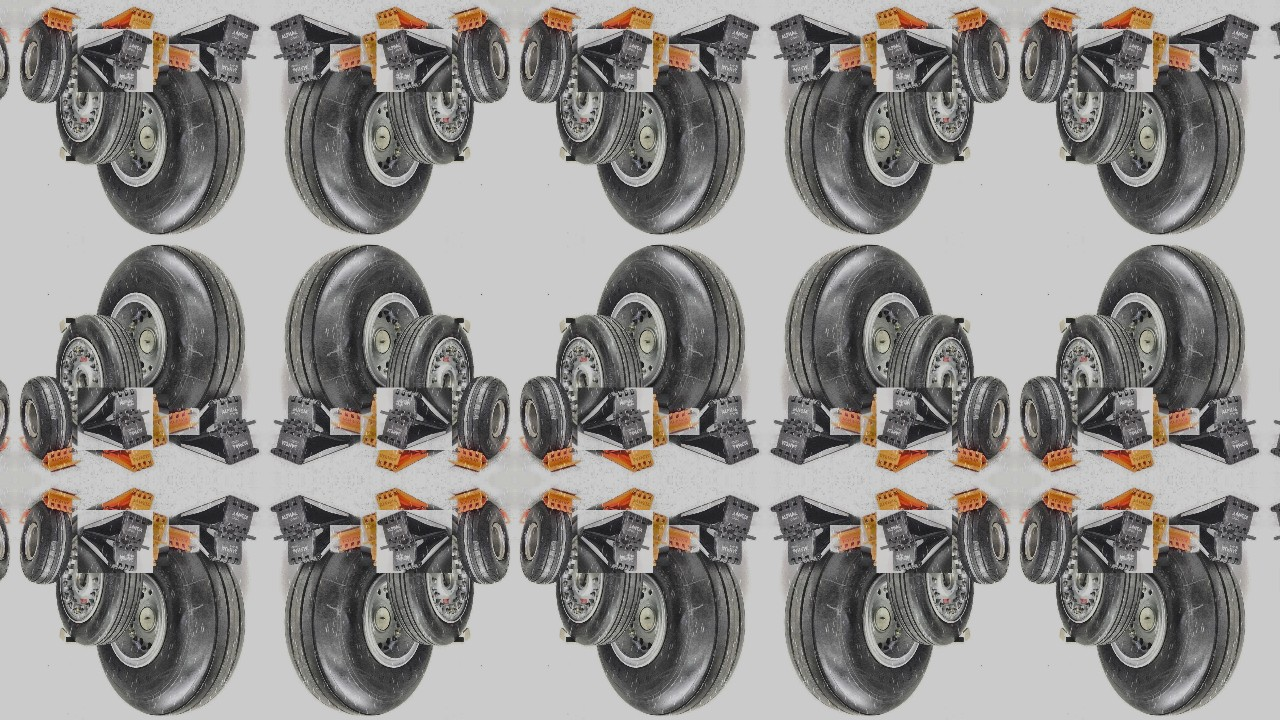chock: (173, 14, 260, 85), (269, 14, 356, 85), (1174, 14, 1261, 85), (173, 394, 260, 465), (269, 394, 356, 465), (1174, 394, 1261, 465), (173, 495, 260, 566), (269, 495, 356, 566), (1174, 495, 1261, 566), (674, 14, 760, 85), (770, 14, 856, 85), (674, 394, 760, 465), (770, 394, 856, 465), (674, 495, 760, 566), (770, 495, 856, 566), (77, 29, 153, 92), (376, 29, 452, 92), (877, 29, 953, 92), (1078, 29, 1154, 92), (77, 387, 153, 450), (376, 387, 452, 450), (877, 387, 953, 450), (1078, 387, 1154, 450), (578, 29, 653, 92), (578, 387, 653, 450), (77, 511, 153, 573), (376, 511, 452, 573), (877, 511, 953, 573), (1078, 511, 1154, 573), (578, 511, 653, 573), (110, 29, 169, 85), (360, 29, 419, 85), (610, 29, 669, 85), (861, 29, 920, 85), (1111, 29, 1170, 85), (110, 394, 169, 450), (360, 394, 419, 450), (610, 394, 669, 450), (861, 394, 920, 450), (1111, 394, 1170, 450), (110, 510, 169, 566), (360, 510, 419, 566), (610, 510, 669, 566), (861, 510, 920, 566), (1111, 510, 1170, 566), (100, 488, 155, 541), (374, 488, 429, 541), (600, 488, 655, 541), (875, 488, 930, 541), (1101, 488, 1156, 541), (100, 7, 155, 59), (374, 7, 429, 59), (600, 7, 655, 59), (875, 7, 930, 59), (1101, 7, 1156, 59), (100, 420, 155, 472), (374, 420, 429, 472), (600, 420, 655, 472), (875, 420, 930, 472), (1101, 420, 1156, 472), (41, 487, 81, 515), (448, 487, 488, 515), (541, 487, 581, 515), (949, 487, 989, 515), (1042, 487, 1082, 515), (659, 44, 700, 71), (659, 408, 700, 435), (659, 526, 700, 553), (41, 6, 81, 33), (159, 44, 199, 71), (448, 6, 488, 33), (330, 44, 370, 71), (541, 6, 581, 33), (949, 6, 989, 33), (831, 44, 871, 71), (1042, 6, 1082, 33), (1160, 44, 1200, 71), (41, 446, 81, 473), (159, 408, 199, 435), (448, 446, 488, 473), (330, 408, 370, 435), (541, 446, 581, 473), (949, 446, 989, 473), (831, 408, 871, 435), (1042, 446, 1082, 473), (1160, 408, 1200, 435), (159, 526, 199, 553), (330, 526, 370, 553), (831, 526, 871, 553), (1160, 526, 1200, 553), (1270, 14, 1280, 85), (1270, 394, 1280, 465), (1270, 495, 1280, 566)
wheel: (95, 523, 245, 718), (284, 523, 434, 718), (595, 523, 745, 718), (785, 523, 935, 718), (1096, 523, 1246, 718), (95, 42, 245, 236), (284, 42, 434, 236), (595, 42, 745, 236), (785, 42, 935, 236), (1096, 42, 1246, 236), (95, 243, 245, 437), (284, 243, 434, 437), (595, 243, 745, 437), (785, 243, 935, 437), (1096, 243, 1246, 437), (56, 34, 140, 164), (389, 34, 473, 164), (556, 34, 640, 164), (890, 34, 974, 164), (1057, 34, 1141, 164), (56, 315, 140, 445), (389, 315, 473, 445), (556, 315, 640, 445), (890, 315, 974, 445), (1057, 315, 1141, 445), (56, 515, 140, 645), (389, 515, 473, 645), (556, 515, 640, 645), (890, 515, 974, 645), (1057, 515, 1141, 645), (956, 20, 1011, 103), (956, 376, 1011, 459), (956, 501, 1011, 584), (19, 20, 73, 103), (456, 20, 510, 103), (520, 20, 574, 103), (1020, 20, 1074, 103), (19, 376, 73, 459), (456, 376, 510, 459), (520, 376, 574, 459), (1020, 376, 1074, 459), (19, 501, 73, 584), (456, 501, 510, 584), (520, 501, 574, 584), (1020, 501, 1074, 584), (0, 20, 10, 103), (0, 376, 10, 459), (0, 501, 10, 584)
